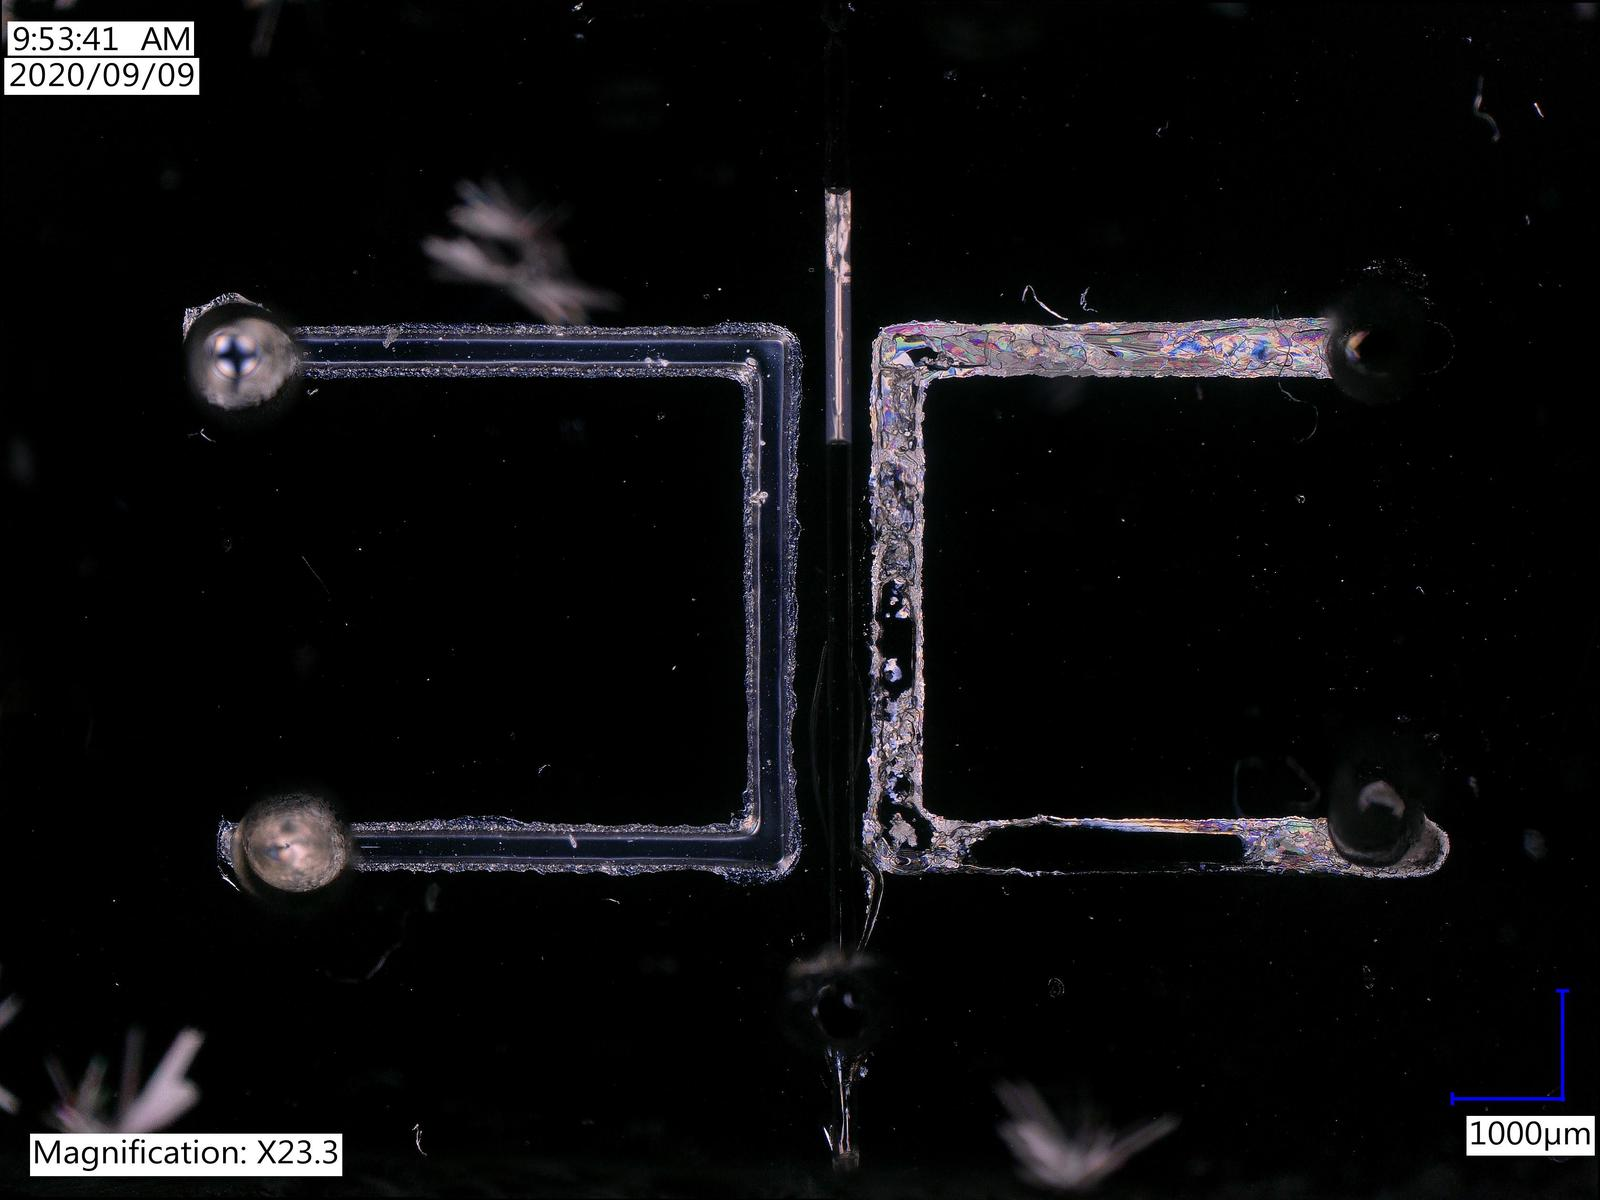sediment: (876, 490, 918, 587), (877, 696, 920, 782), (874, 363, 920, 429), (932, 821, 976, 862), (886, 813, 915, 848)
